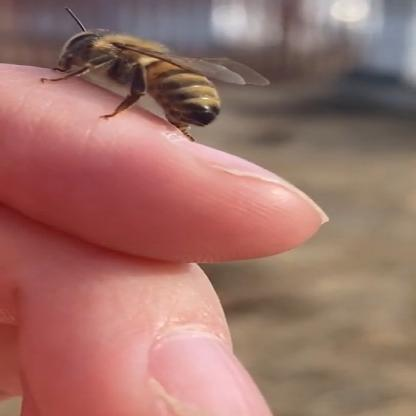bee: (31, 5, 273, 166)
